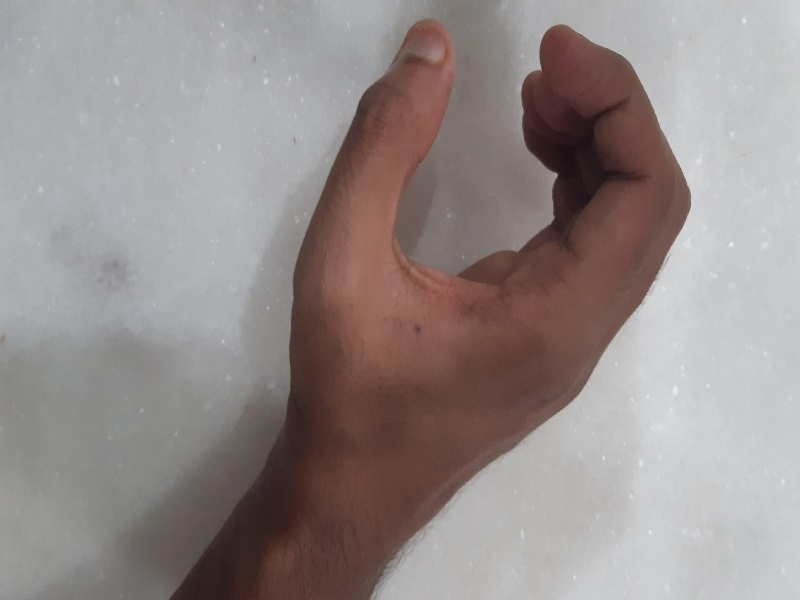one: (264, 2, 709, 458)
